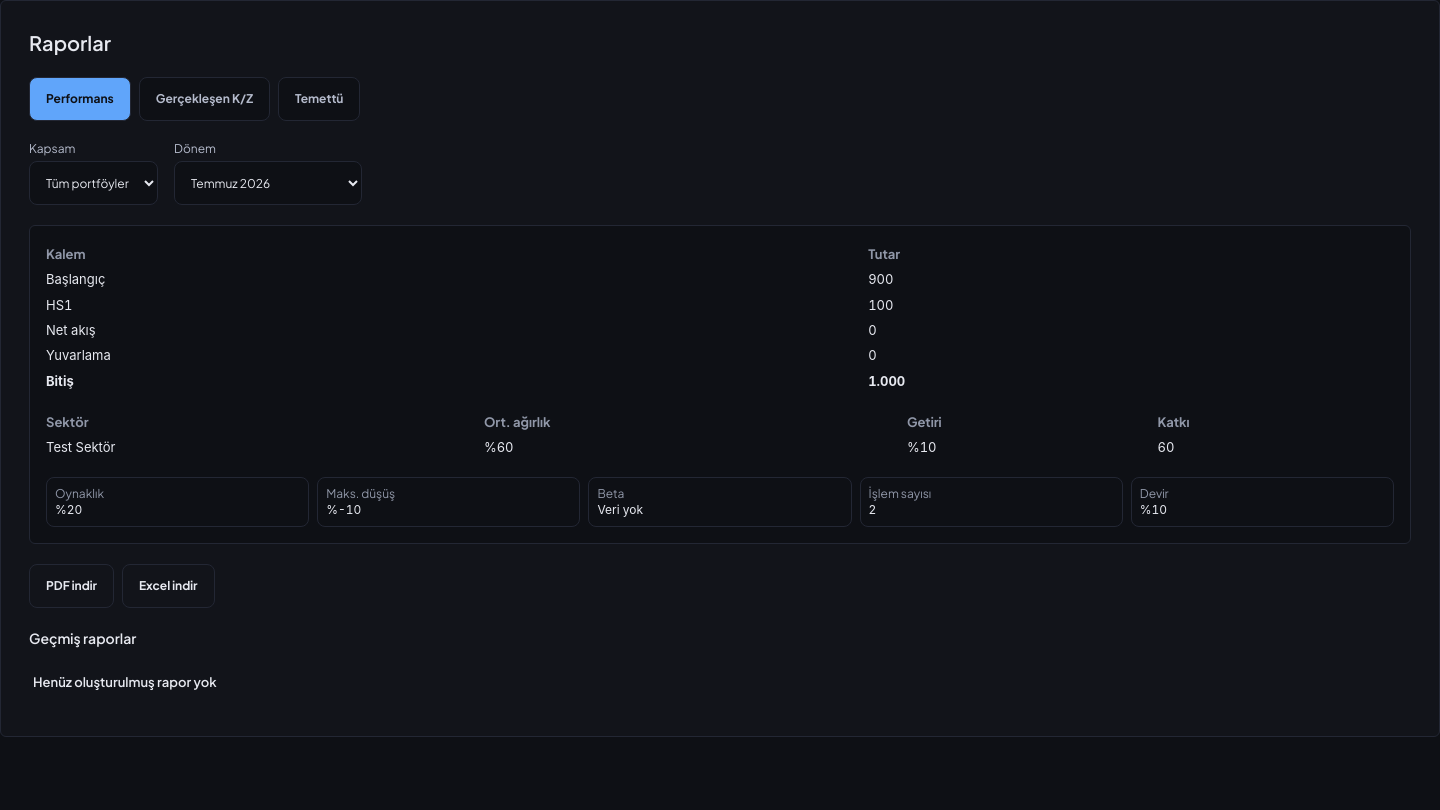
it: ReportsCenter › renders templates, preview and hides e-mail when delivery.email is false
The image size is (1440, 810).
Check: the button "Performans" is shown, box [29, 77, 131, 121]
Check: the table named "Değer köprüsü" is shown, box [46, 242, 1394, 394]
Click the button "Gerçekleşen K/Z".
click(204, 99)  # box [139, 77, 270, 121]
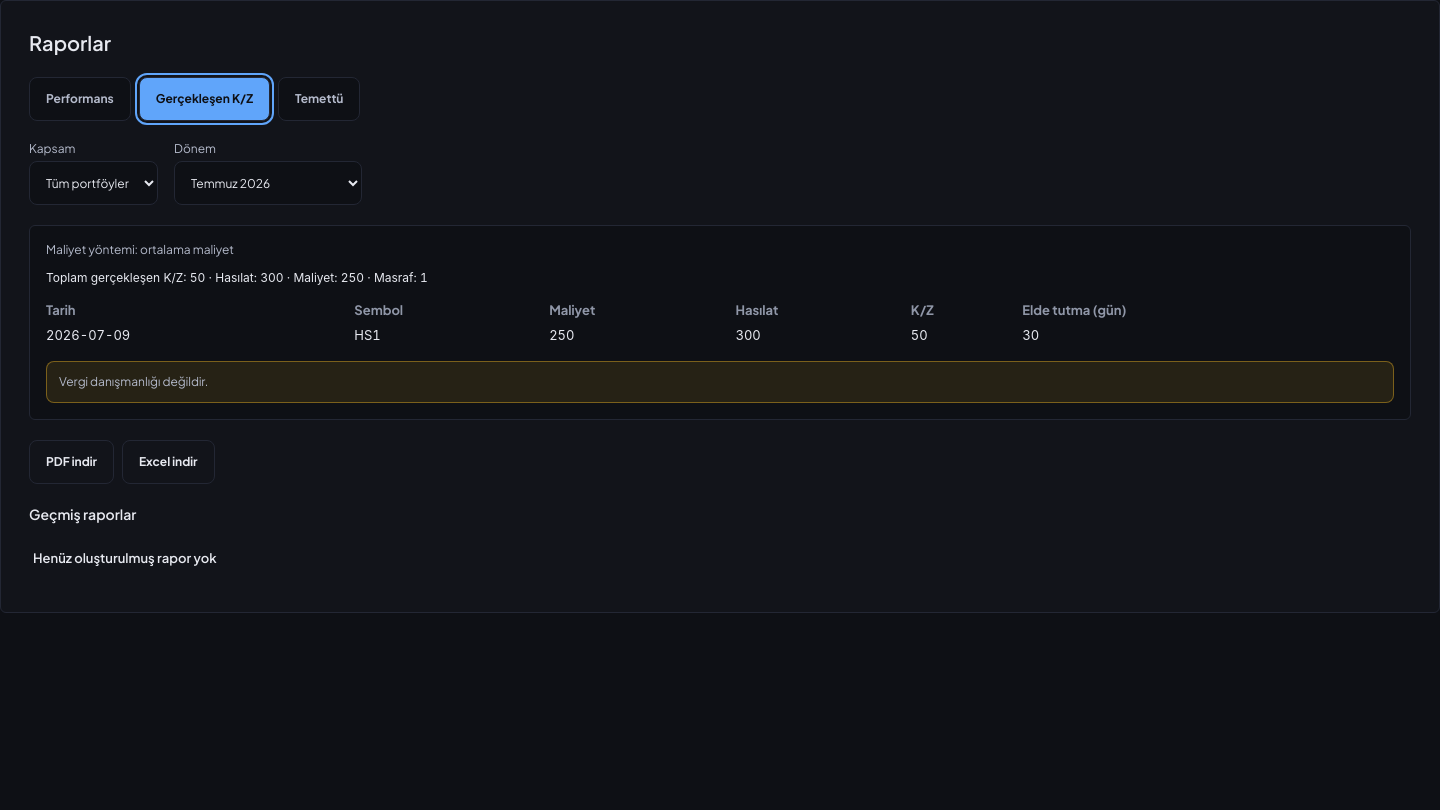
Check: the text "Vergi danışmanlığı değildir." is shown, box [46, 361, 1394, 403]
Click the button "Temettü".
click(319, 99)  # box [278, 77, 360, 121]
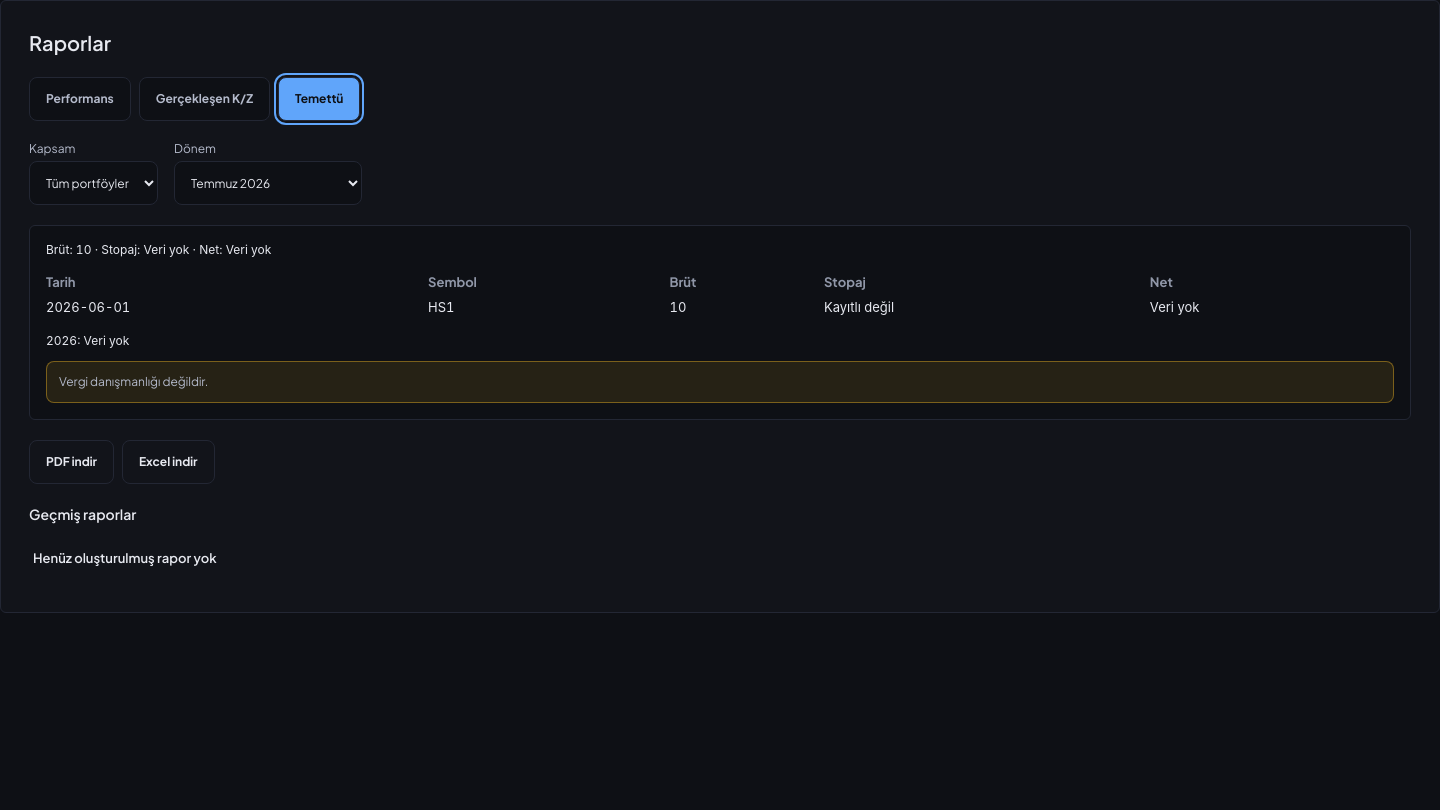
Check: the text "Vergi danışmanlığı değildir." is shown, box [46, 361, 1394, 403]
Check: the text "Kayıtlı değil" is shown, box [824, 295, 1150, 321]
